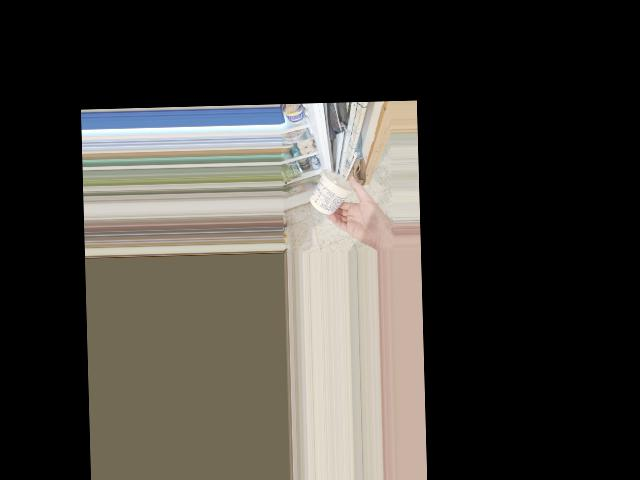cotage: (310, 165, 354, 209)
